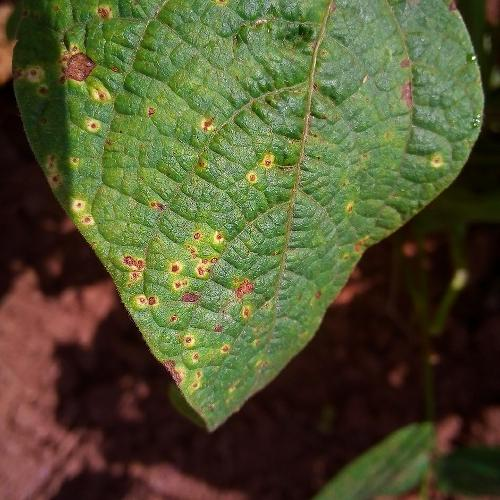hawar: (7, 1, 489, 433)
